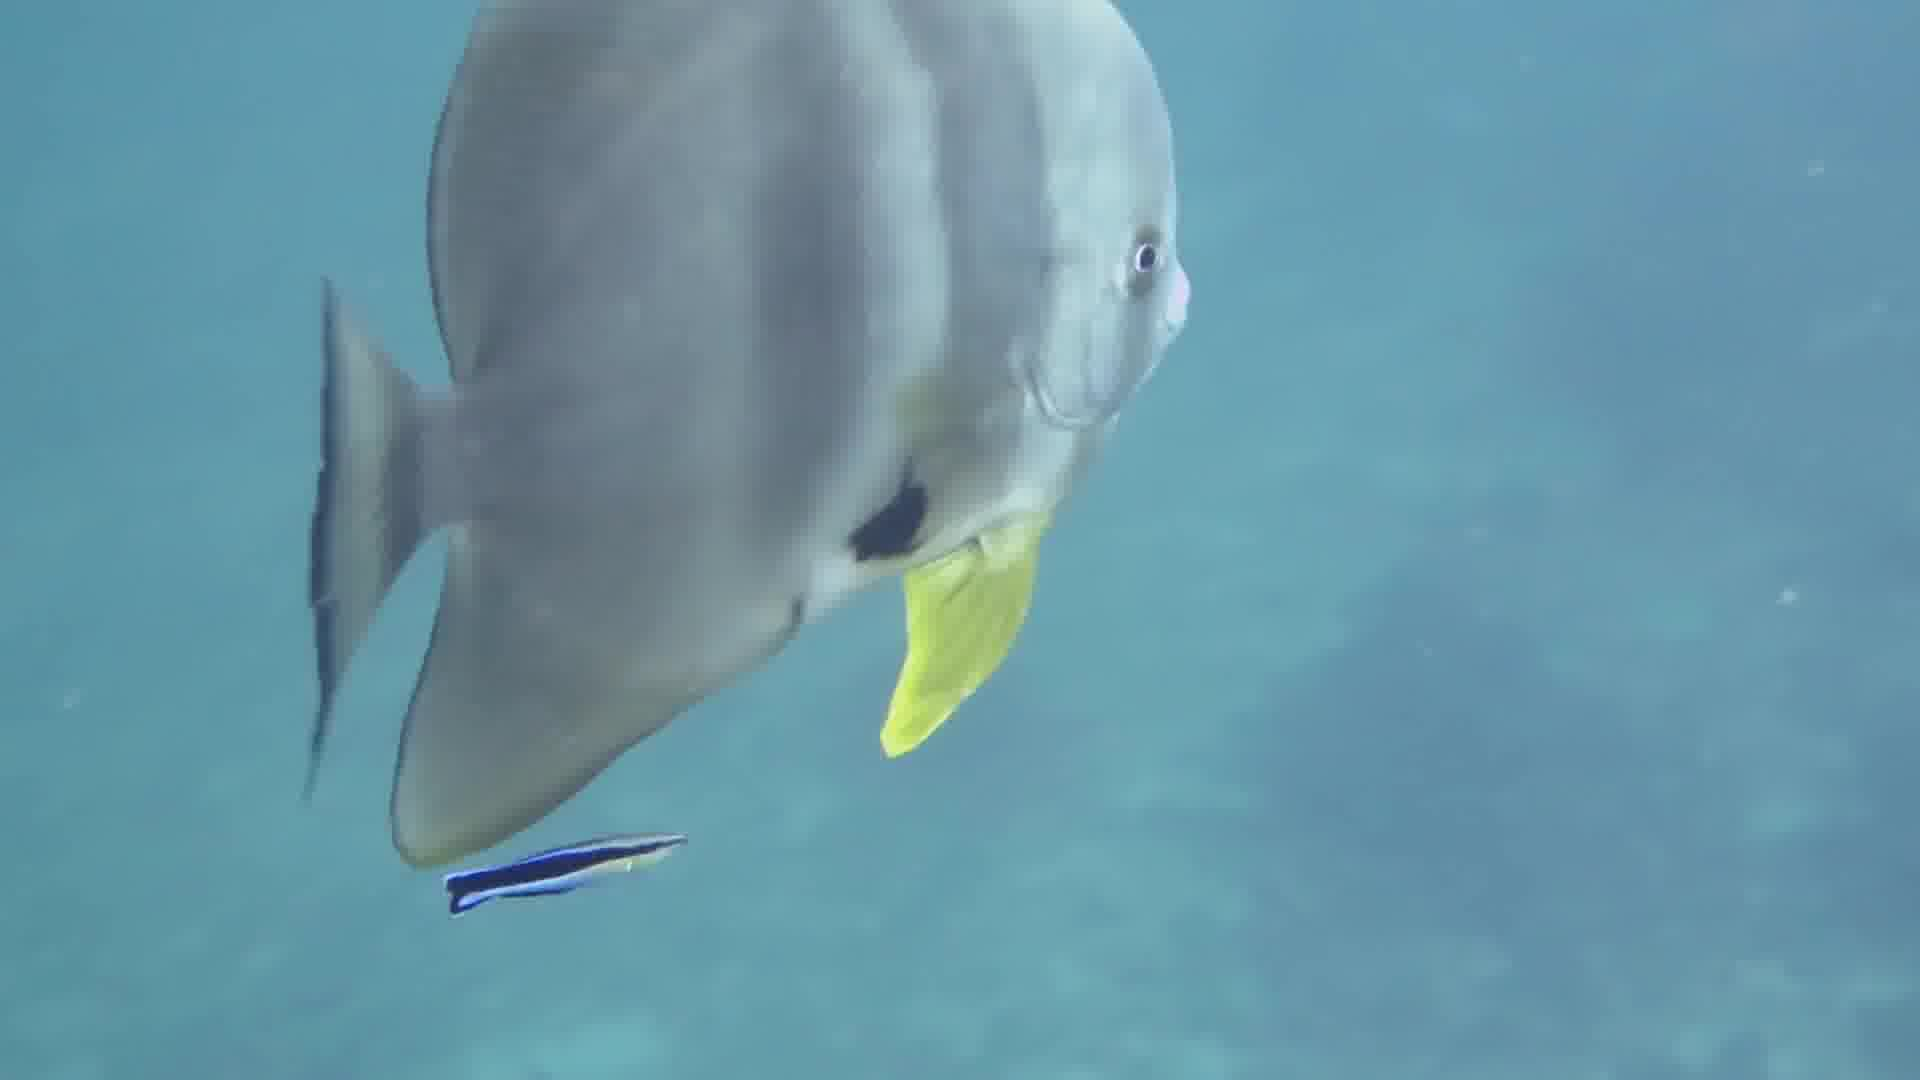Platax teira: (243, 1, 1291, 915)
